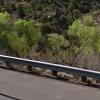Tree: (9, 3, 100, 59)
